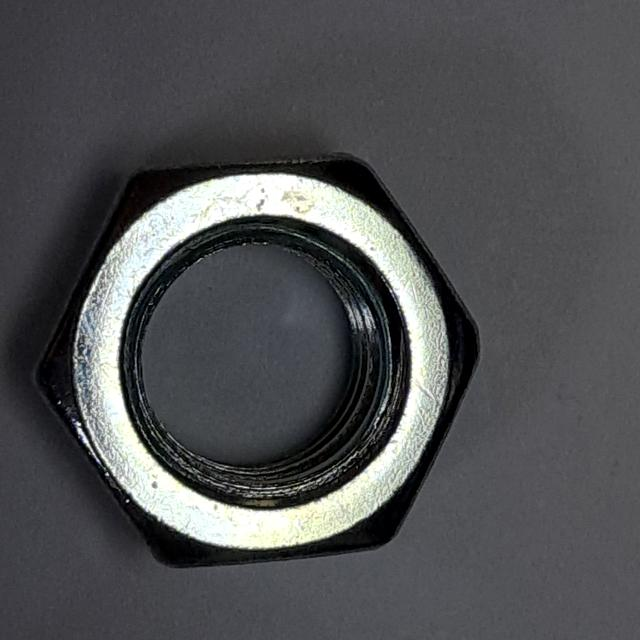Excellent: (21, 145, 494, 582)
